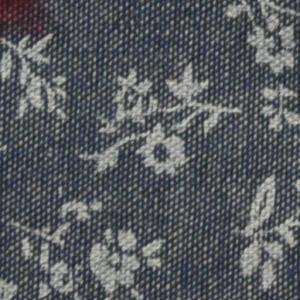Stain: (1, 1, 59, 48)
